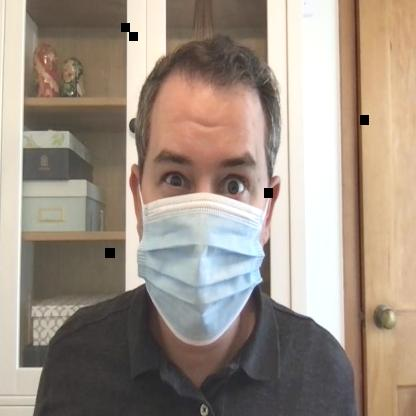mask: (130, 38, 285, 348)
